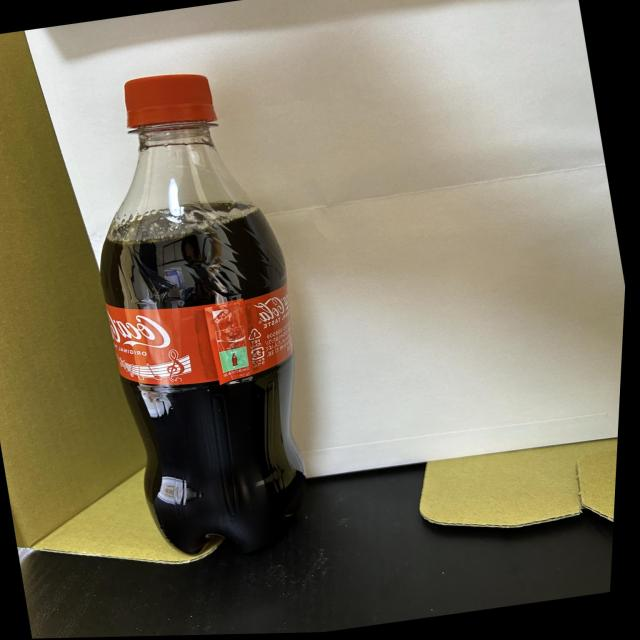high: (101, 74, 305, 554)
